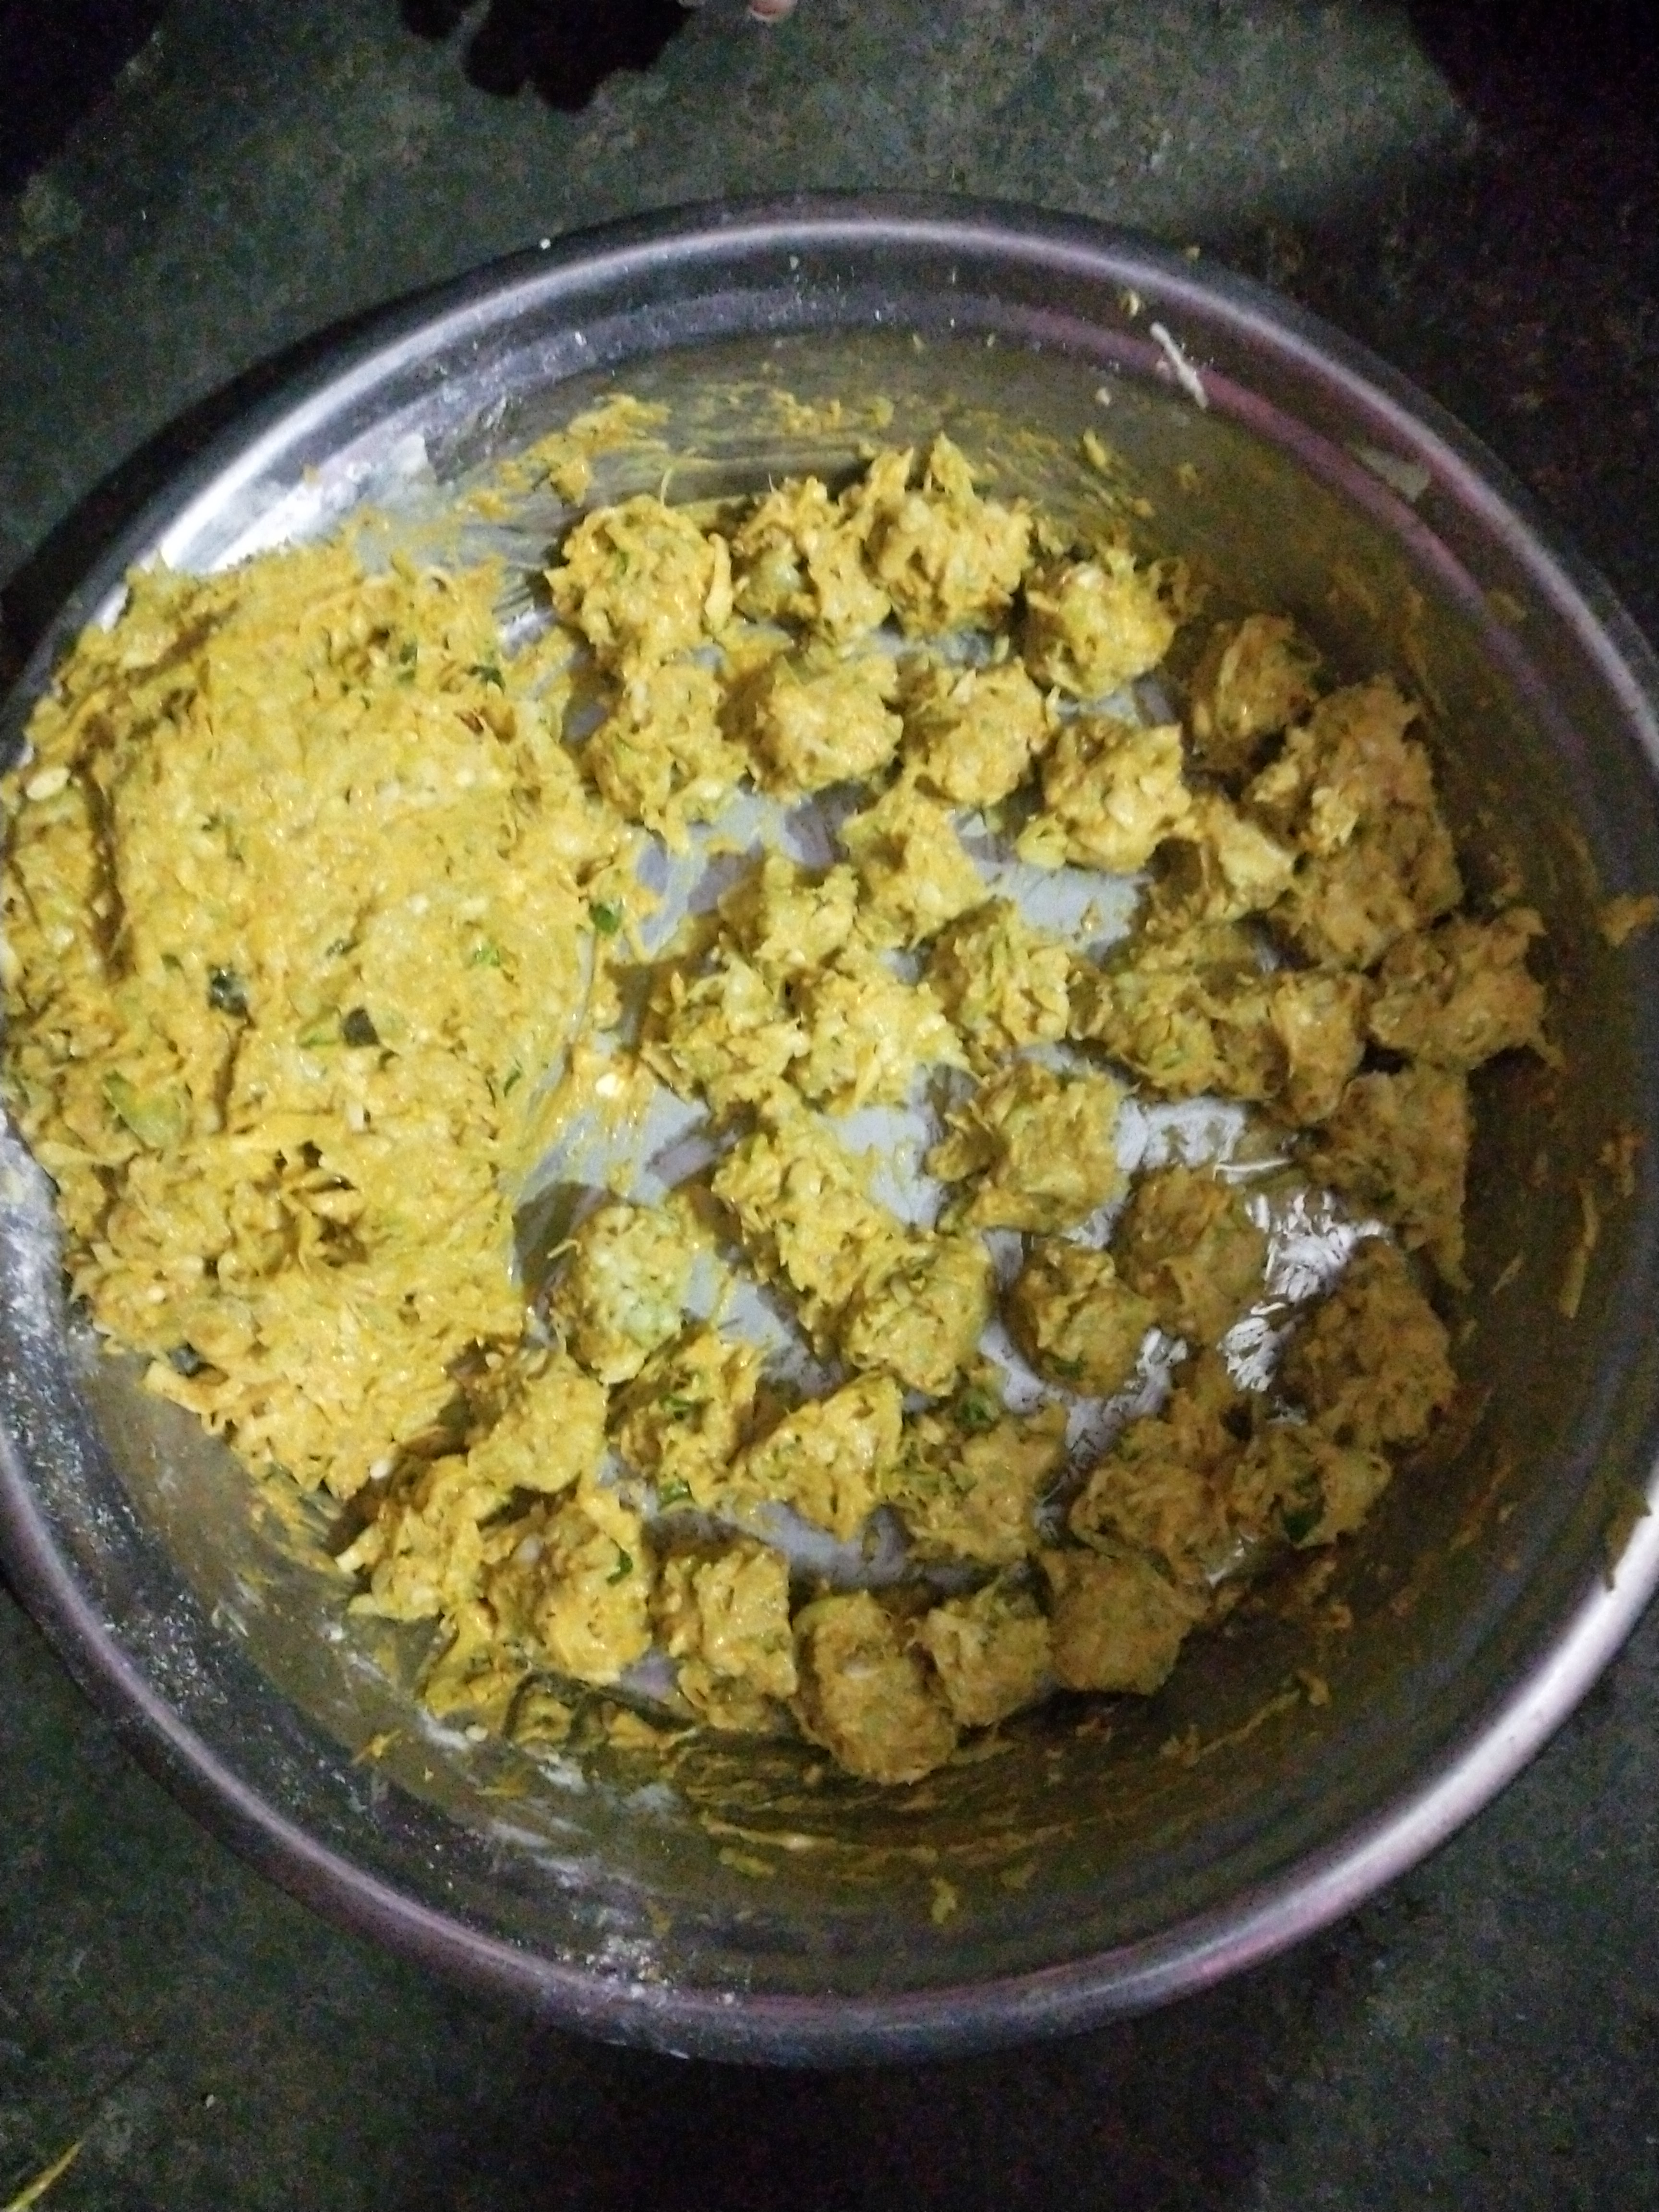food: (2, 421, 1568, 1803)
